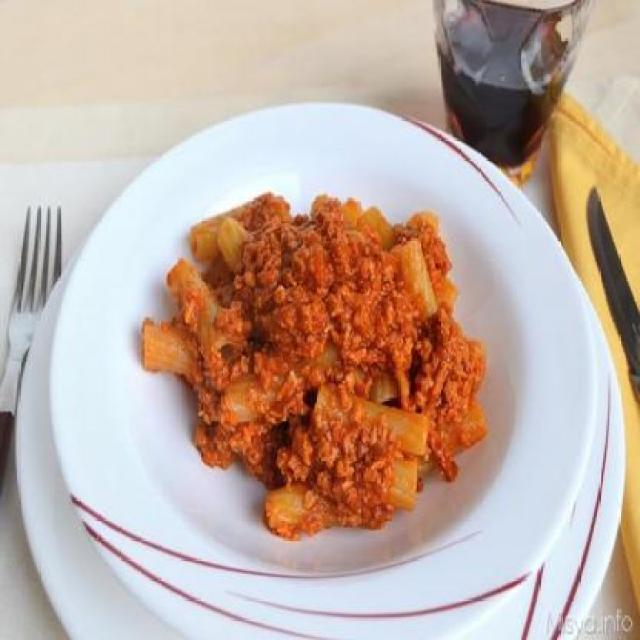Pasta al ragu: (126, 163, 540, 557)
